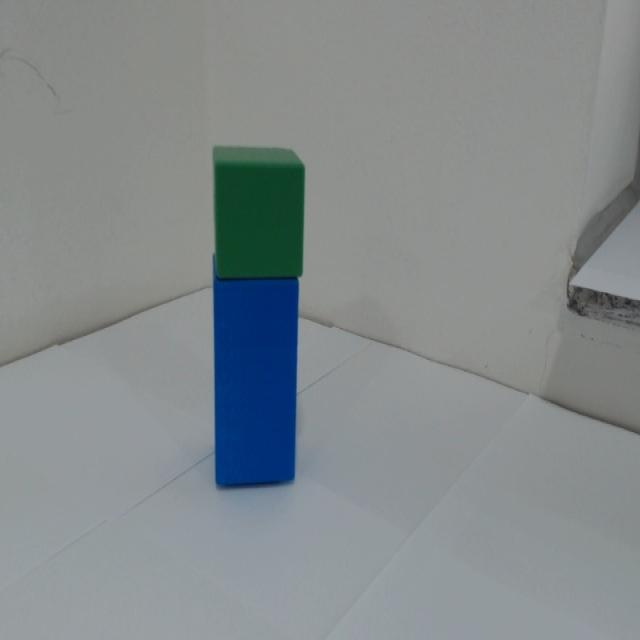cube: (208, 139, 309, 281)
